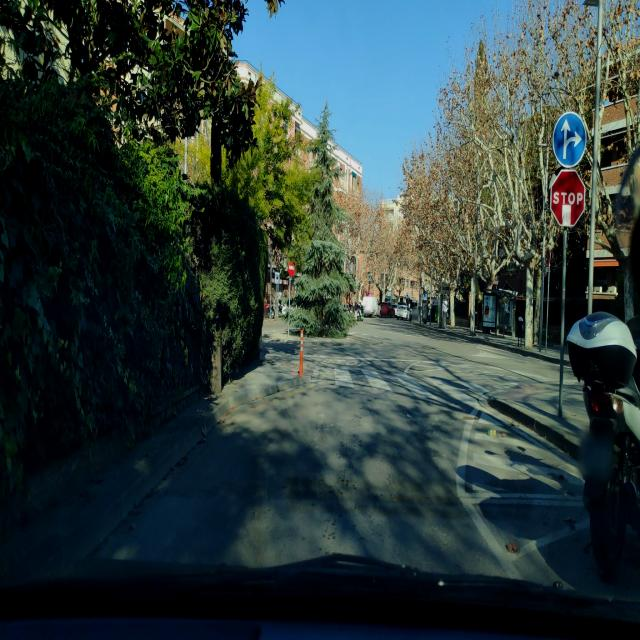bike: (570, 329, 640, 590)
car: (361, 296, 380, 318), (394, 300, 412, 320), (378, 300, 396, 318)
